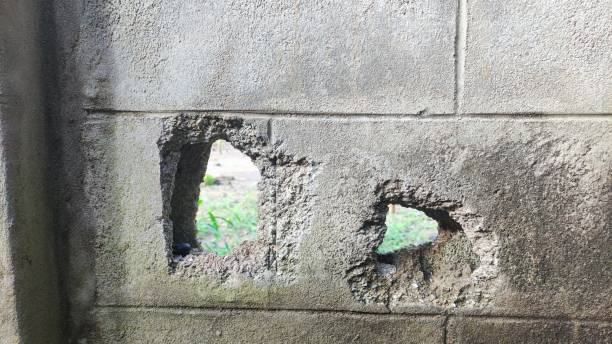Spalling: (156, 112, 323, 285), (344, 178, 499, 308)
